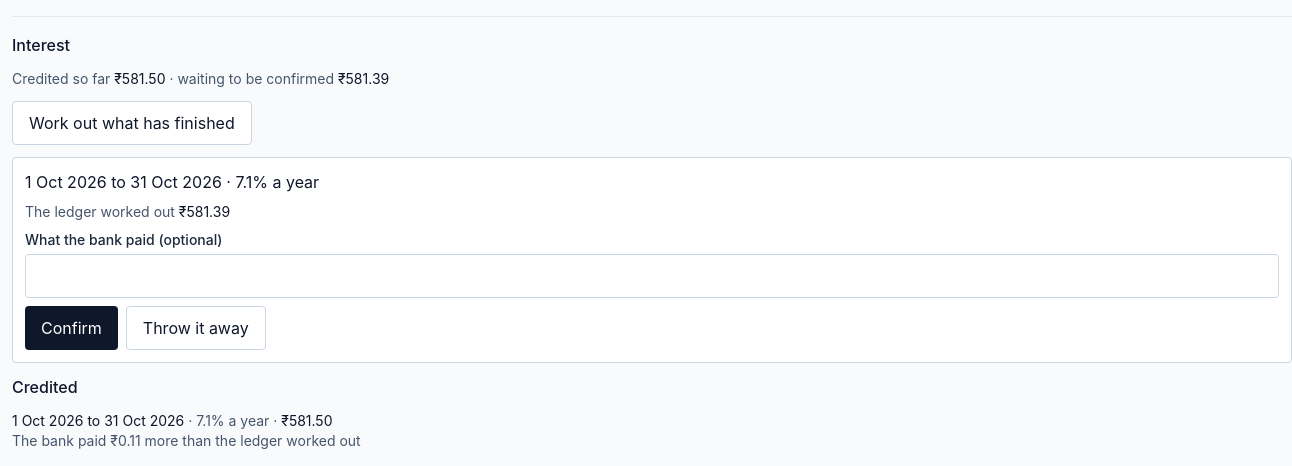
Test case: InterestPanel › says it is working while the interest is on its way
Check: the text "Credited so far ₹581.50 · waiting to be confirmed ₹581.39" is shown, box x1=12 y1=70 x2=389 y2=87
Click the button "Confirm": (71, 328) x1=25 y1=306 x2=118 y2=350
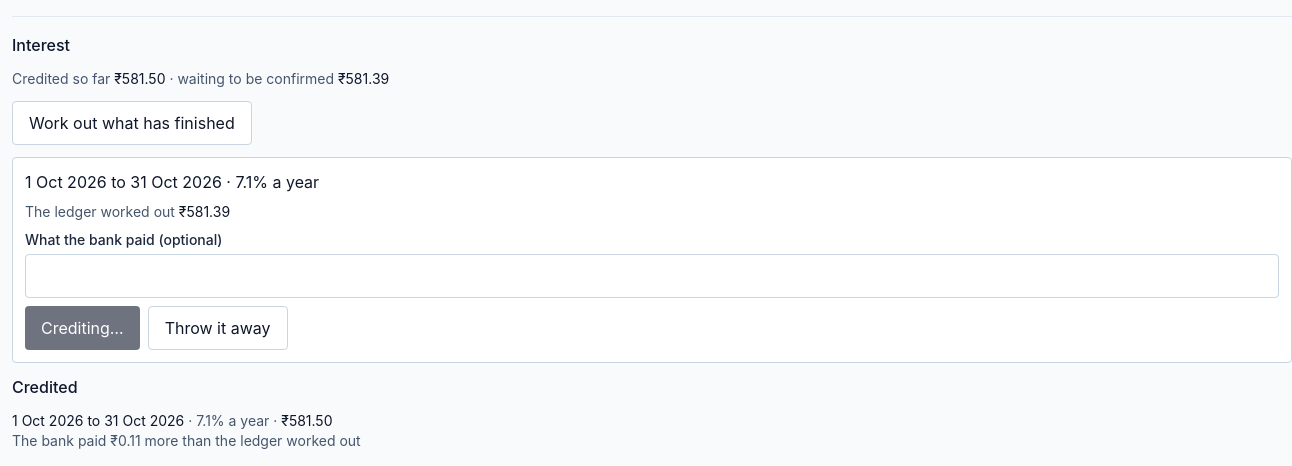
Check: the button "Crediting…" is disabled, box x1=25 y1=306 x2=140 y2=350
